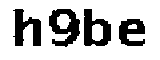9: (46, 6, 81, 52)
b: (82, 6, 113, 52)
e: (116, 17, 151, 52)
h: (7, 4, 44, 50)
